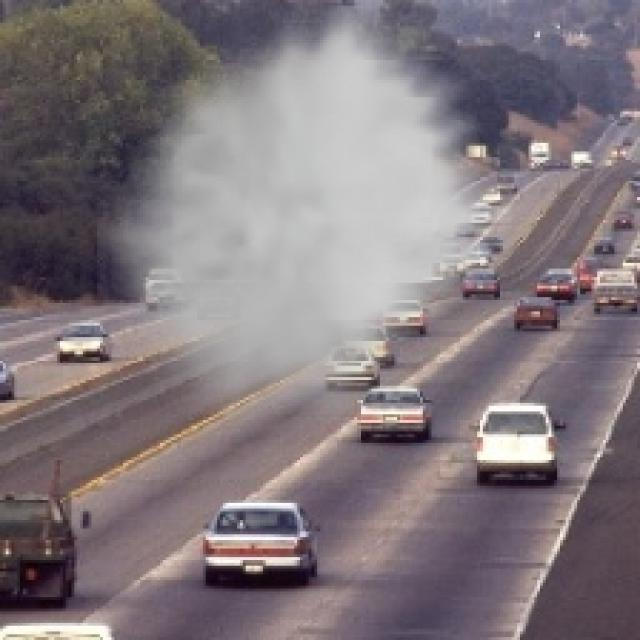smoke: (97, 6, 512, 414)
